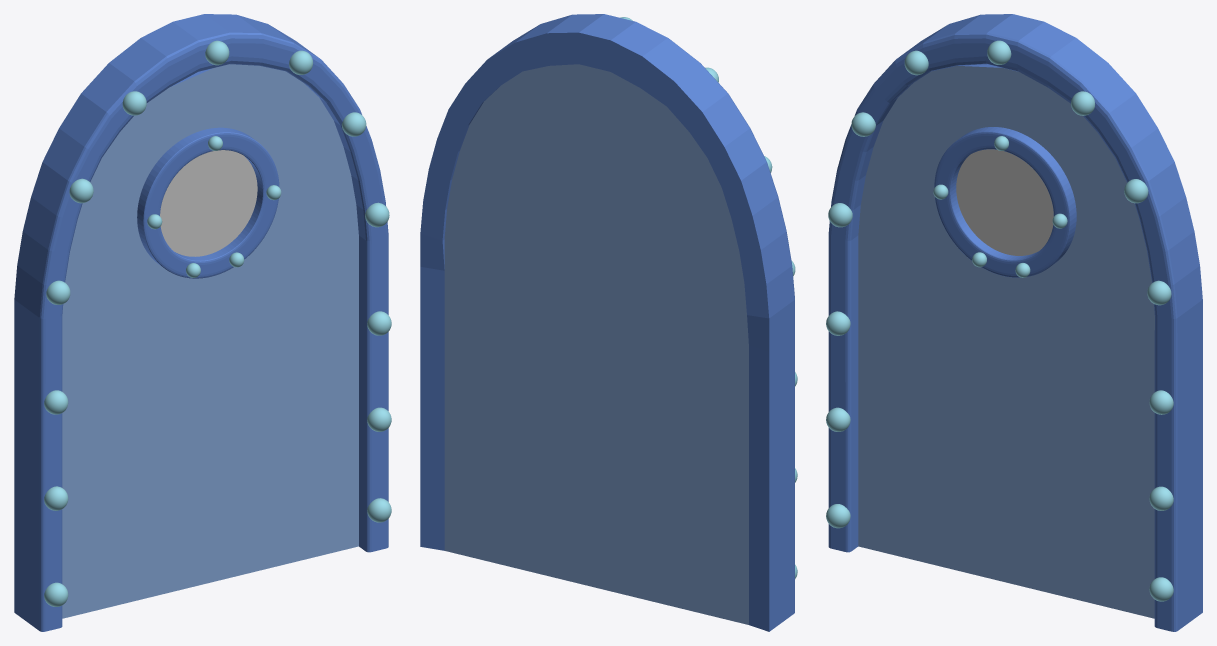
Rendered from pintu.fbx.
The picture shows the model from 3 angles, left to right: view 1: azimuth 30°, elevation 25°; view 2: azimuth 150°, elevation 25°; view 3: azimuth 330°, elevation 25°; orthographic projection.
Parts seen in each view (by area): view 1: Cube.033, Cube.003, Cylinder.016, Cylinder.013, Cylinder.002; view 2: Cube.033, Cube.003; view 3: Cube.033, Cube.003, Cylinder.016, Cylinder.013, Cylinder.002.
Boxes of the visible parts, bbox=[...] form: Cube.033: bbox=[62, 64, 358, 618]; Cube.003: bbox=[14, 14, 388, 631]; Cylinder.016: bbox=[160, 150, 257, 256]; Cylinder.013: bbox=[137, 127, 279, 278]; Cylinder.002: bbox=[44, 40, 391, 606]; Cube.033: bbox=[444, 64, 748, 624]; Cube.003: bbox=[420, 14, 794, 631]; Cube.033: bbox=[858, 65, 1154, 618]; Cube.003: bbox=[828, 14, 1202, 631]; Cylinder.016: bbox=[956, 149, 1053, 255]; Cylinder.013: bbox=[934, 127, 1076, 277]; Cylinder.002: bbox=[826, 40, 1173, 601].
Bounding box in the file's own units: 563 × 853 × 98.1.
